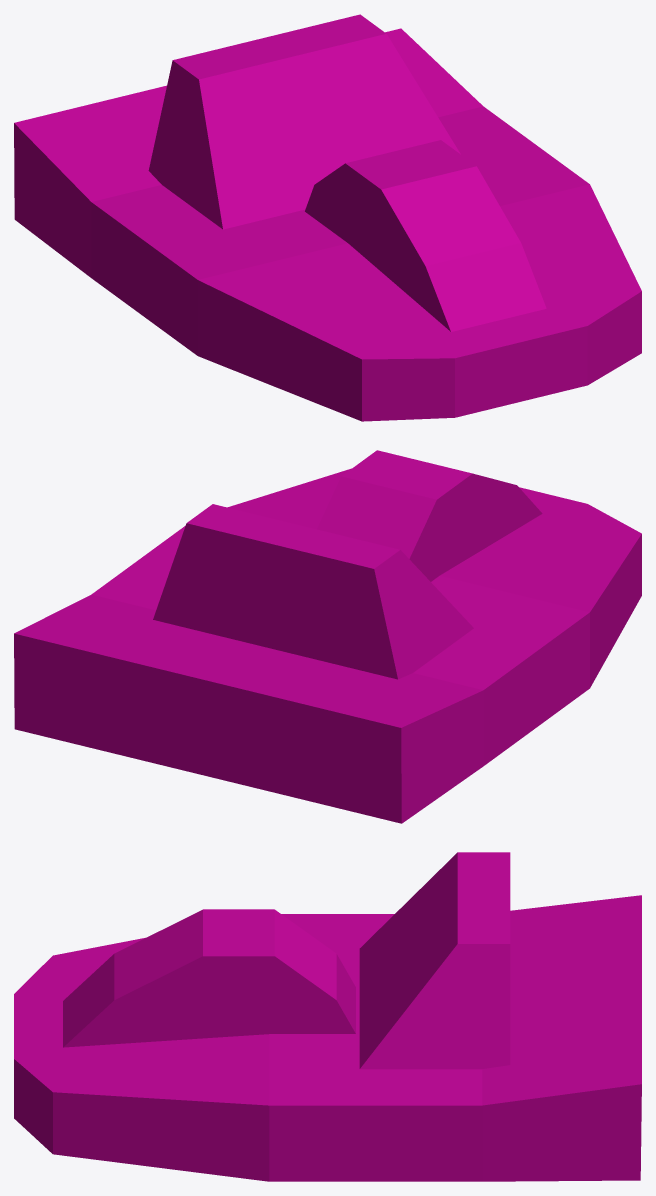
File: SM_Veh_Kart_01_Preset_01_Collision.fbx
3 views of the same model, one above another, from view 1: azimuth 30°, elevation 25°; view 2: azimuth 150°, elevation 25°; view 3: azimuth 270°, elevation 25° (orthographic).
Parts seen in each view (by area): view 1: SM_Veh_Kart_01_Preset_01_Collision; view 2: SM_Veh_Kart_01_Preset_01_Collision; view 3: SM_Veh_Kart_01_Preset_01_Collision.
Part boxes in pixels (left/top/right/bottom): SM_Veh_Kart_01_Preset_01_Collision: left=14, top=14, right=641, bottom=421; SM_Veh_Kart_01_Preset_01_Collision: left=14, top=450, right=641, bottom=823; SM_Veh_Kart_01_Preset_01_Collision: left=14, top=852, right=641, bottom=1181.
Size of the model in its own units: 141 by 63.55 by 196.
